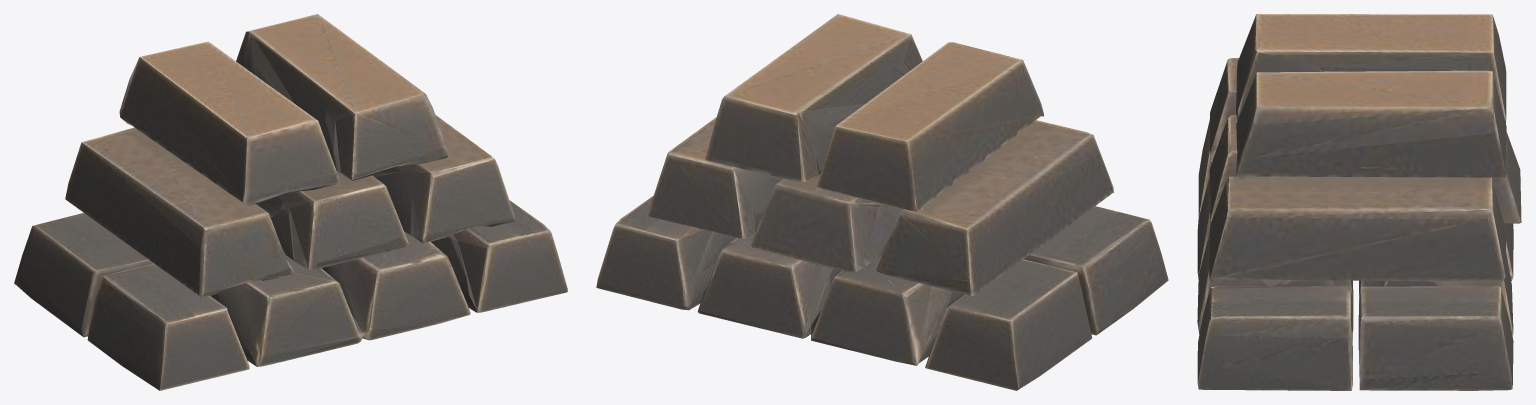
The model's file is ingot_stack.glb.
The picture shows the model from 3 angles, left to right: view 1: azimuth 30°, elevation 25°; view 2: azimuth 150°, elevation 25°; view 3: azimuth 270°, elevation 25°; orthographic projection. The views are drawn at different scales.
Visible parts, largest first — view 1: Mesh_0; view 2: Mesh_0; view 3: Mesh_0.
Boxes of the visible parts, box(x1,y1,x2,y2) form: Mesh_0: box(14, 14, 567, 390); Mesh_0: box(596, 14, 1168, 390); Mesh_0: box(1197, 14, 1521, 390).
Bounding box in the file's own units: 1.9 × 0.9198 × 1.2.
1 material, 1 textured.
